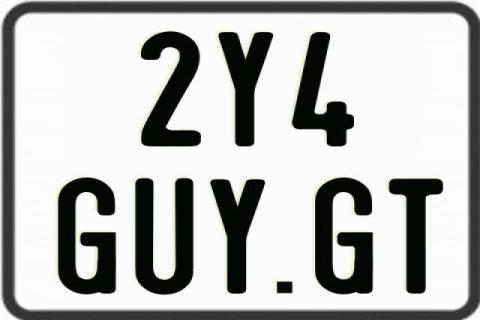0: (290, 31, 354, 145), (141, 29, 202, 145)
G: (55, 178, 119, 300), (312, 175, 371, 293)
T: (389, 177, 443, 292)
U: (132, 177, 194, 297)
Y: (207, 178, 263, 294), (217, 31, 273, 145)
